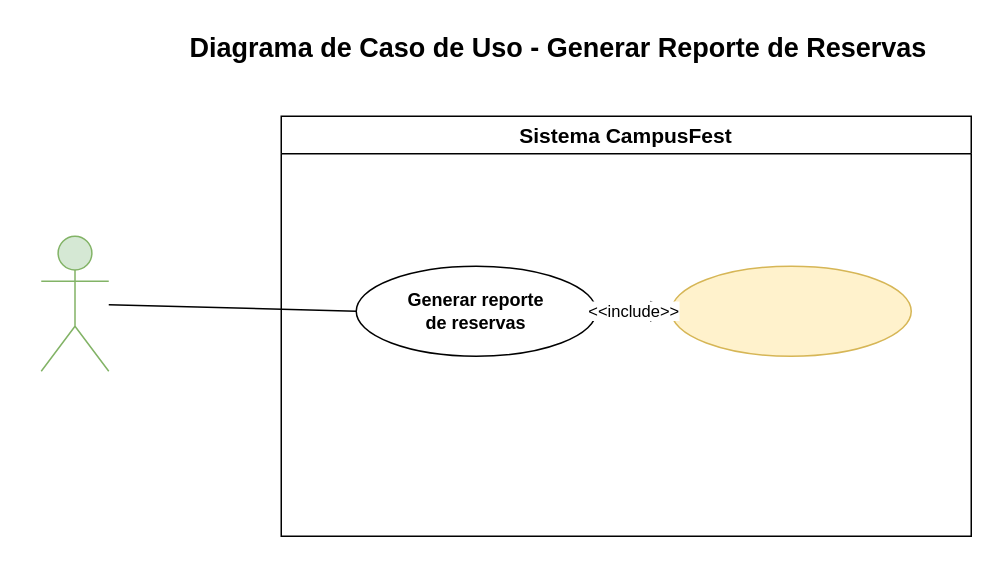
The diagram is 998 pixels wide and 563 high, and some of its shapes have lost their labels. The shapes that lost their labels are listed below. From the top down, each one's centre as x and y in pixels, then its label:
At pixel 74 303: "Organizador".
At pixel 790 310: "Buscar / Consultar evento".
